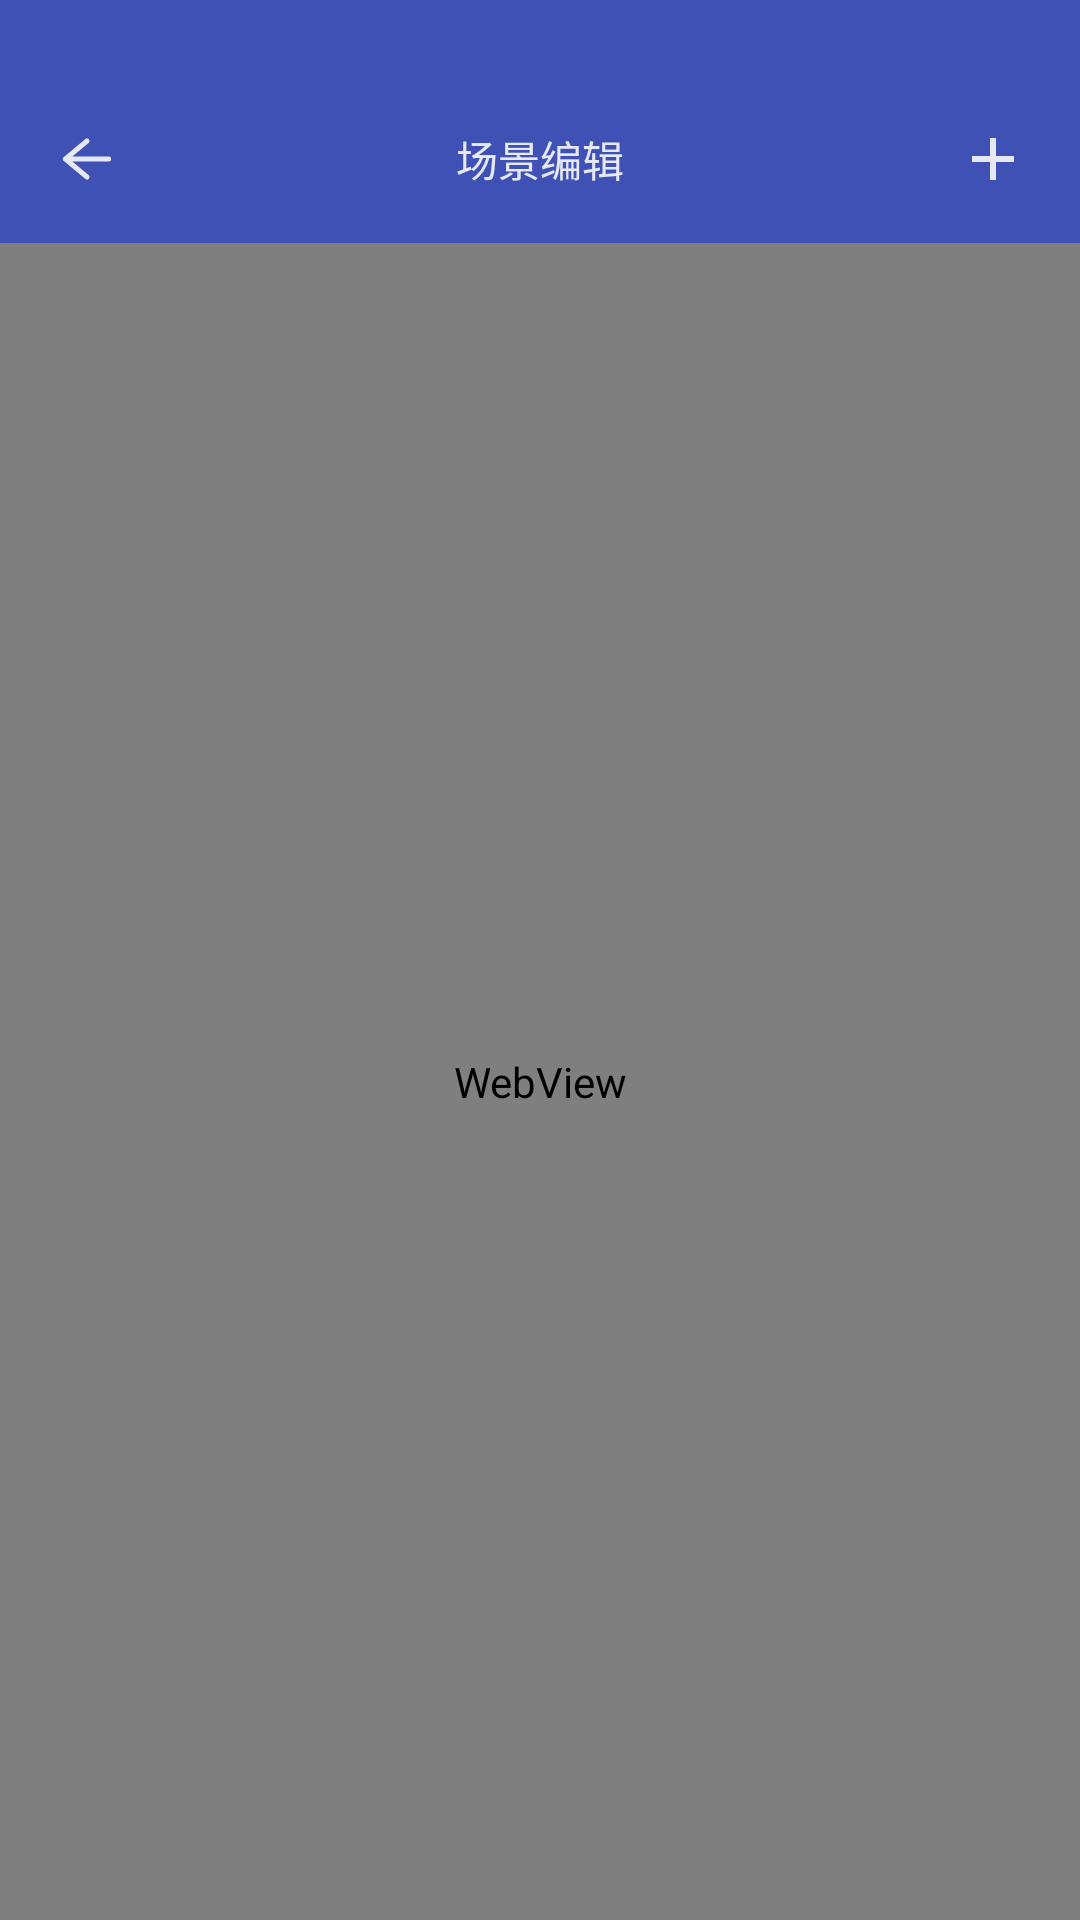

Point at icon controls on the screen. Image size 1080 x 1920, points as (x,y).
add: (993,159)
back left: (87,159)
